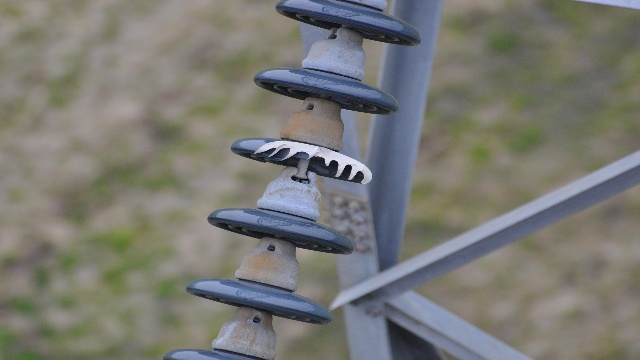broken_local: (252, 139, 373, 184)
insulator_unspecified: (164, 2, 420, 359)
